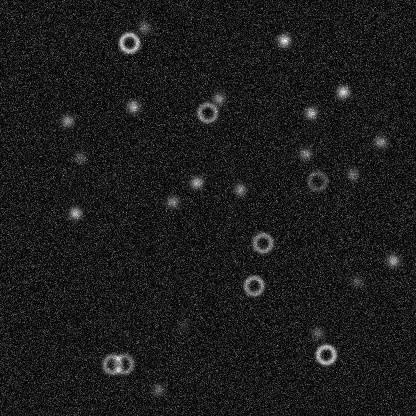Ring: (241, 273, 265, 297), (111, 351, 135, 375), (305, 168, 329, 192), (117, 30, 141, 54), (195, 100, 219, 124), (100, 352, 124, 376), (313, 342, 337, 366), (250, 230, 274, 254)
Spot: (334, 83, 350, 99), (297, 145, 313, 161), (149, 381, 165, 397), (385, 252, 401, 268), (344, 166, 360, 182), (188, 174, 204, 190), (210, 90, 226, 106), (348, 273, 364, 289), (72, 149, 88, 165), (136, 19, 152, 35), (124, 98, 140, 114), (309, 324, 325, 340), (164, 193, 180, 209), (302, 105, 318, 121), (372, 133, 388, 149), (67, 205, 83, 221), (231, 181, 247, 197), (174, 317, 190, 333), (276, 32, 292, 48), (59, 112, 75, 128)
